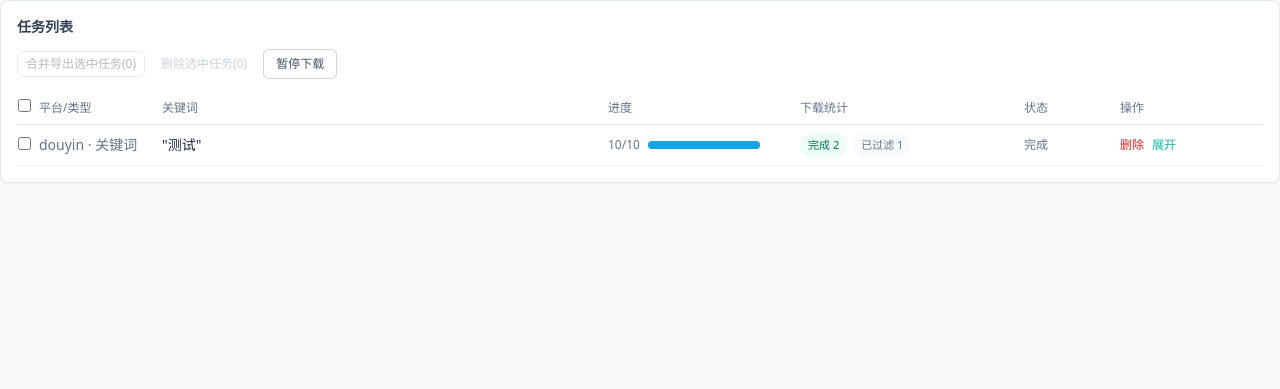
Test: DOM 契约：框选容器结构（R2） › 容器可由 data-testid 定位，且其直接子元素恰好是唯一的 <table>（中间不得插 wrapper）
The width and height of the screenshot is (1280, 389).
Click the button "展开".
click(1164, 145)  # box x1=1152 y1=137 x2=1176 y2=153
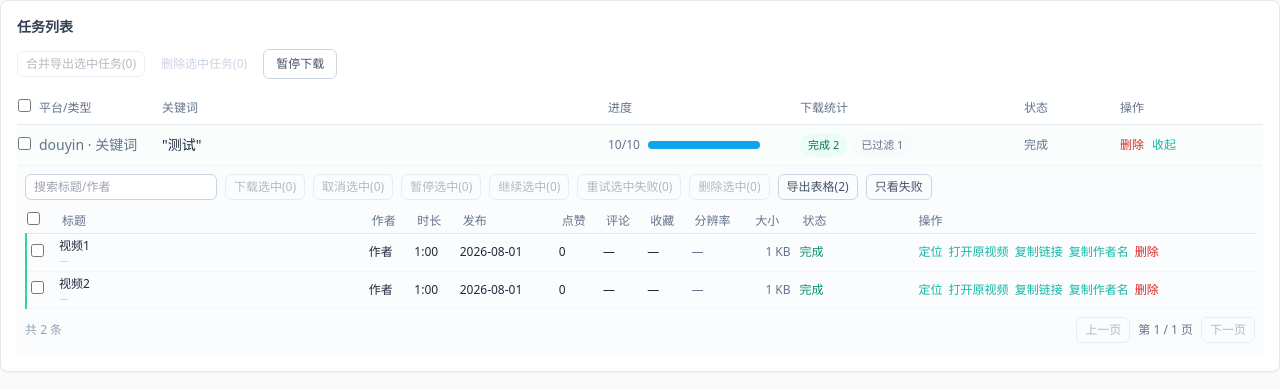
Result: the button "标题" is shown at x1=62 y1=212 x2=86 y2=228
